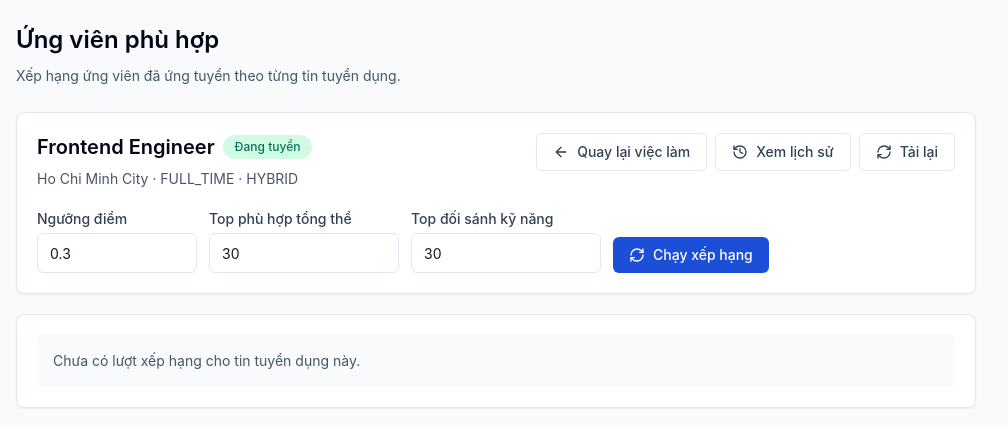
it: create run and processing behavior › maps a 409 conflict to the existing processing explanation
This screenshot has width=1008, height=425.
Expected: the text "Chưa có lượt xếp hạng cho tin tuyển dụng này." is shown, [37,335,955,387]
Click the button "Chạy xếp hạng". click: (691, 255)
box: [613,237,769,273]
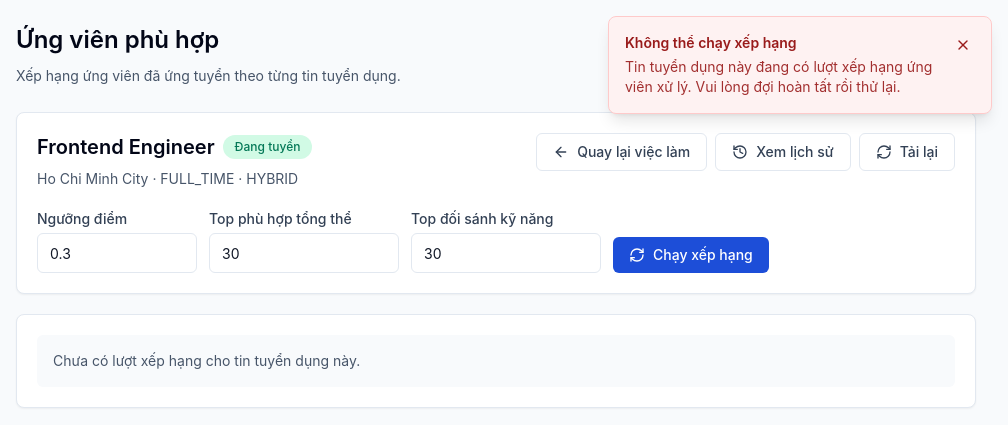
Expected: the text "đang có lượt xếp hạng ứng viên xử lý" is shown, [625,58,932,95]
